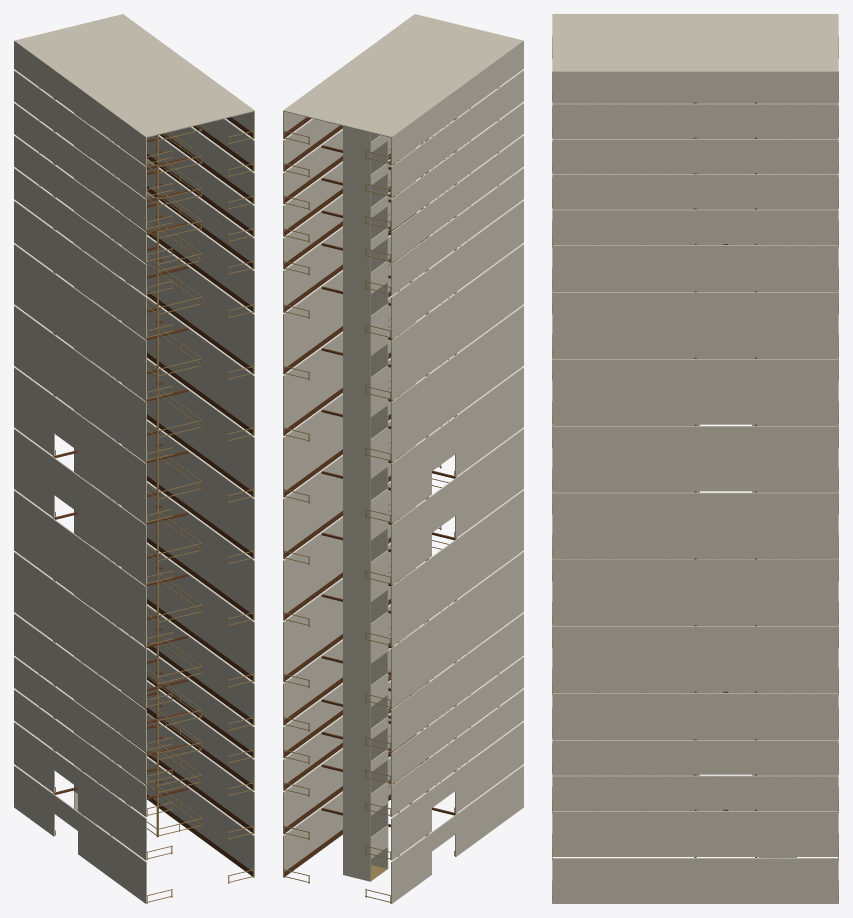
File: AST-CIR-005_forward_pool_market.glb
The picture shows the model from 3 angles, left to right: view 1: azimuth 30°, elevation 25°; view 2: azimuth 150°, elevation 25°; view 3: azimuth 270°, elevation 25°; orthographic projection. The views are drawn at different scales.
Visible parts, largest first — view 1: DERIVATIVE_0_0_0_ivory_enamel, DERIVATIVE_0_0_0_warm_walnut, DERIVATIVE_0_0_0_champagne_metal; view 2: DERIVATIVE_0_0_0_ivory_enamel, DERIVATIVE_0_0_0_warm_walnut, DERIVATIVE_0_0_0_champagne_metal; view 3: DERIVATIVE_0_0_0_ivory_enamel, DERIVATIVE_0_0_0_champagne_metal.
Part boxes in pixels (box(x1,y1,x2,y2)): DERIVATIVE_0_0_0_ivory_enamel: box(14, 14, 254, 903); DERIVATIVE_0_0_0_warm_walnut: box(53, 97, 253, 875); DERIVATIVE_0_0_0_champagne_metal: box(38, 87, 254, 903); DERIVATIVE_0_0_0_ivory_enamel: box(283, 14, 523, 903); DERIVATIVE_0_0_0_warm_walnut: box(284, 117, 456, 875); DERIVATIVE_0_0_0_champagne_metal: box(283, 87, 499, 903); DERIVATIVE_0_0_0_ivory_enamel: box(552, 14, 838, 903); DERIVATIVE_0_0_0_champagne_metal: box(552, 36, 838, 902).
Bounding box in the file's own units: 15.76 × 106 × 33.08.
4 materials, 3 textured.
